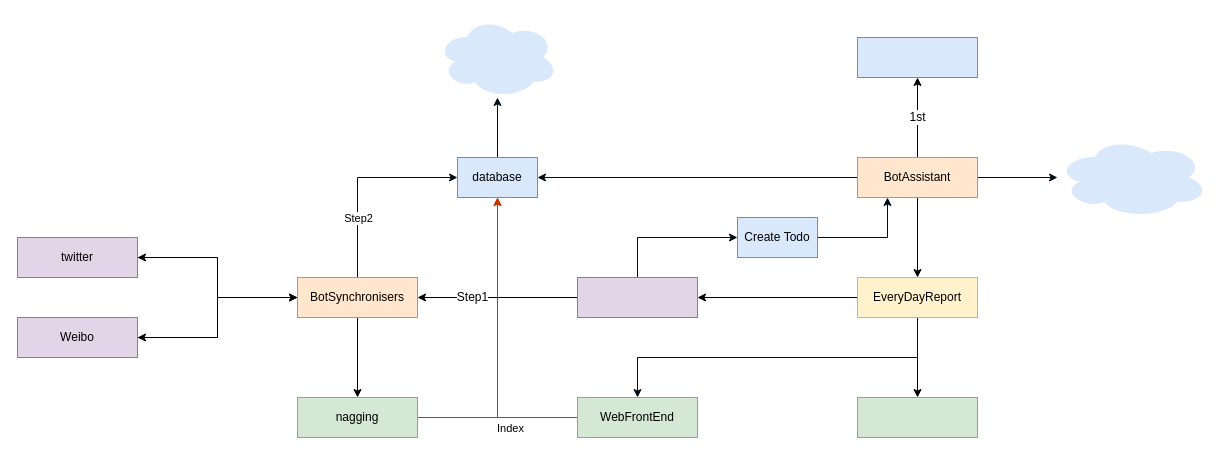
Some shapes in this 1225 by 455 pixel diagram are drawn without their labels. Each missing label, with the box of its shape:
cloudflare worker: (1056, 136, 1208, 218)
heroku: (436, 16, 558, 98)
MsTodo: (856, 36, 978, 78)
Notion: (856, 396, 978, 438)
Telegram: (576, 276, 698, 318)
